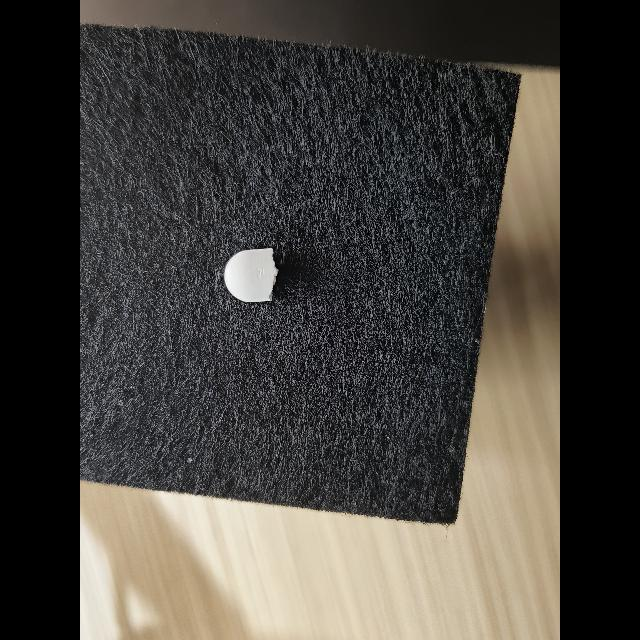Chipped Pill: (224, 248, 279, 302)
